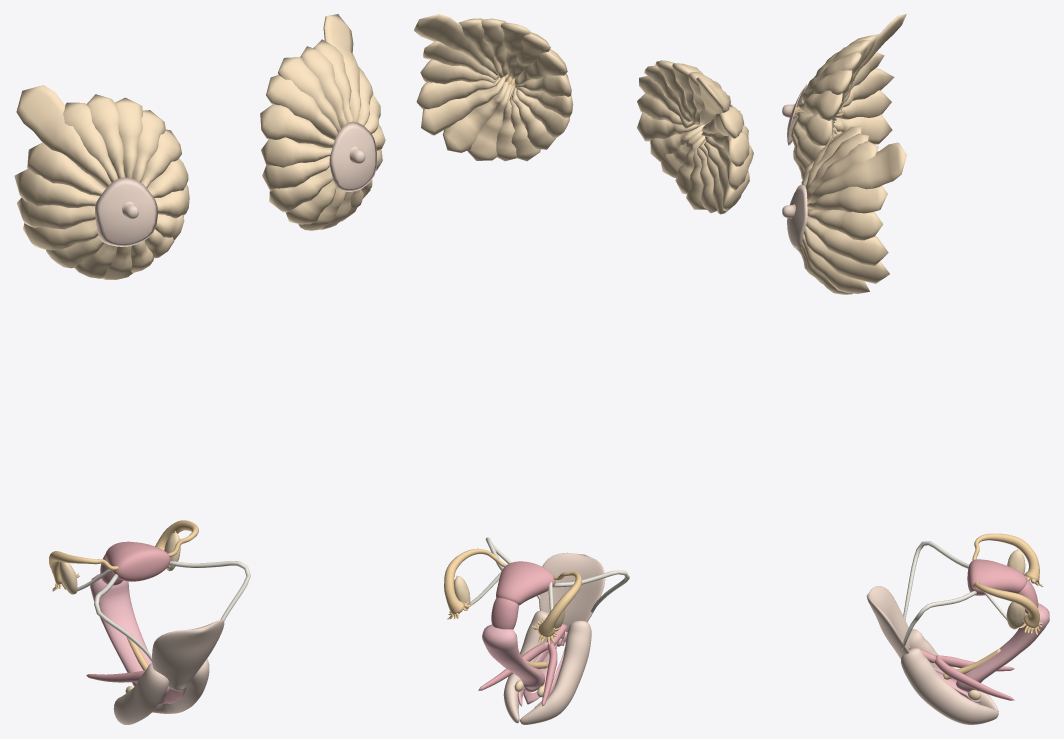
File: zenski.glb
3 views of the same model, side by side, from view 1: azimuth 30°, elevation 25°; view 2: azimuth 150°, elevation 25°; view 3: azimuth 270°, elevation 25° (orthographic). The views are drawn at different scales.
Visible parts, largest first — view 1: Mammary gland.r, Mammary gland.l, Areola.r, Mons pubis, Vagina, Areola.l, Uterus, Labium majus.r, Labium majus.l, Uterine tube.r, Round ligament of uterus.l, Uterine tube.l (+1 smaller); view 2: Mammary gland.l, Mammary gland.r, Mons pubis, Labium majus.r, Vagina, Uterus, Clitoris, Labium majus.l, Uterine tube.l, Uterine tube.r, Cervix of uterus, Round ligament of uterus.r; view 3: Mammary gland.l, Mammary gland.r, Labium majus.l, Mons pubis, Vagina, Uterus, Clitoris, Uterine tube.r, Uterine tube.l, Areola.l, Labium majus.r, Round ligament of uterus.r (+1 smaller).
Boxes of the visible parts, <box> form: Mammary gland.r: <box>14,85,189,279</box>; Mammary gland.l: <box>260,14,385,230</box>; Areola.r: <box>95,177,157,246</box>; Mons pubis: <box>152,619,224,691</box>; Vagina: <box>90,574,151,686</box>; Areola.l: <box>329,121,377,191</box>; Uterus: <box>105,541,170,581</box>; Labium majus.r: <box>113,663,168,724</box>; Labium majus.l: <box>152,658,209,713</box>; Uterine tube.r: <box>49,551,118,591</box>; Round ligament of uterus.l: <box>169,560,250,620</box>; Uterine tube.l: <box>155,520,198,556</box>; Mammary gland.l: <box>414,14,573,161</box>; Mammary gland.r: <box>637,60,753,214</box>; Mons pubis: <box>539,552,605,631</box>; Labium majus.r: <box>520,620,591,724</box>; Vagina: <box>482,624,544,692</box>; Uterus: <box>496,561,555,605</box>; Clitoris: <box>478,623,567,706</box>; Labium majus.l: <box>503,610,548,723</box>; Uterine tube.l: <box>444,548,506,619</box>; Uterine tube.r: <box>532,571,581,644</box>; Cervix of uterus: <box>491,597,518,629</box>; Round ligament of uterus.r: <box>554,570,629,615</box>; Mammary gland.l: <box>796,125,906,294</box>; Mammary gland.r: <box>790,14,906,179</box>; Labium majus.l: <box>901,648,998,724</box>; Mons pubis: <box>866,586,910,658</box>; Vagina: <box>956,603,1049,692</box>; Uterus: <box>967,559,1027,595</box>; Clitoris: <box>908,647,1014,700</box>; Uterine tube.r: <box>972,533,1043,586</box>; Uterine tube.l: <box>972,581,1042,634</box>; Areola.l: <box>787,184,807,248</box>; Labium majus.r: <box>908,629,998,712</box>; Round ligament of uterus.r: <box>903,541,969,619</box>.
Bounding box in the file's own units: 0.3032 × 0.5795 × 0.2201.
